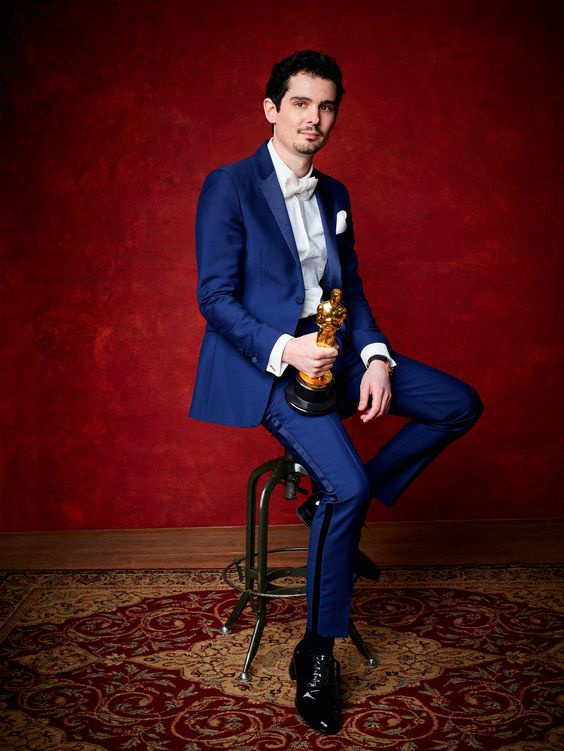hand: (360, 359, 389, 417)
